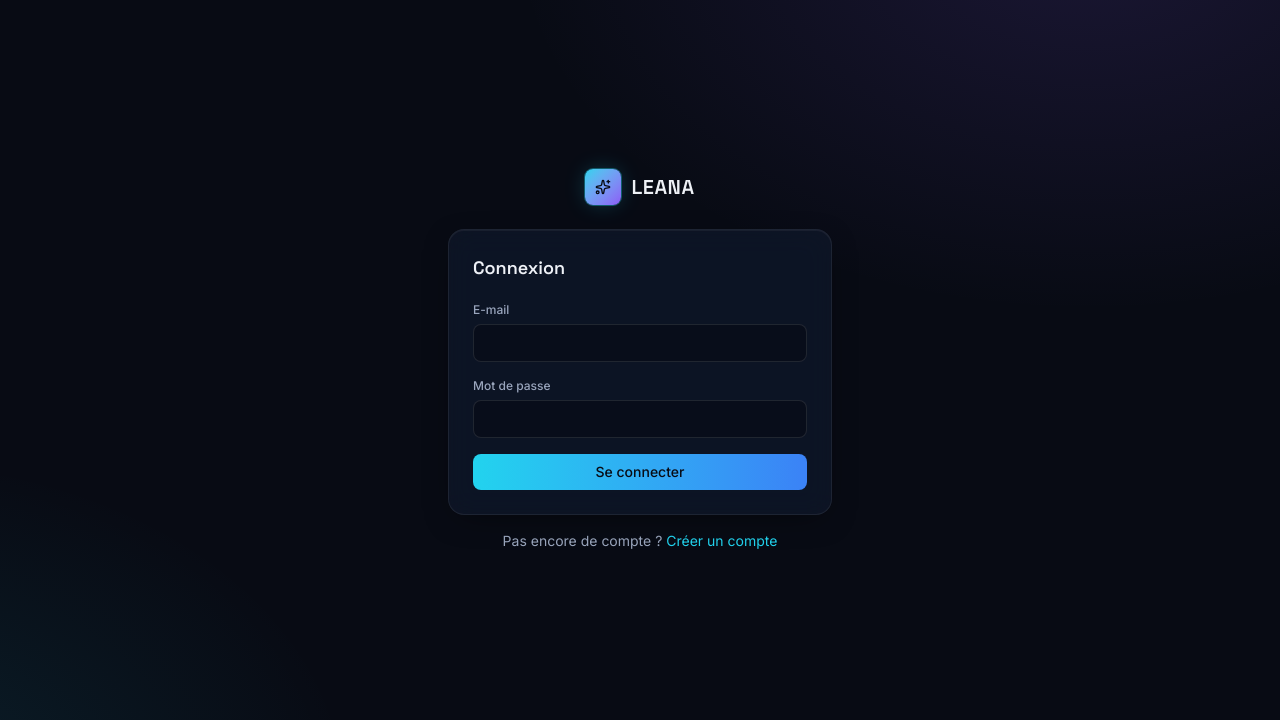
Test: login › opens the requested page after signing in
Step 1. Type "alice@example.test" into the field labelled "E-mail" → x=640, y=343, box [473, 324, 807, 362]
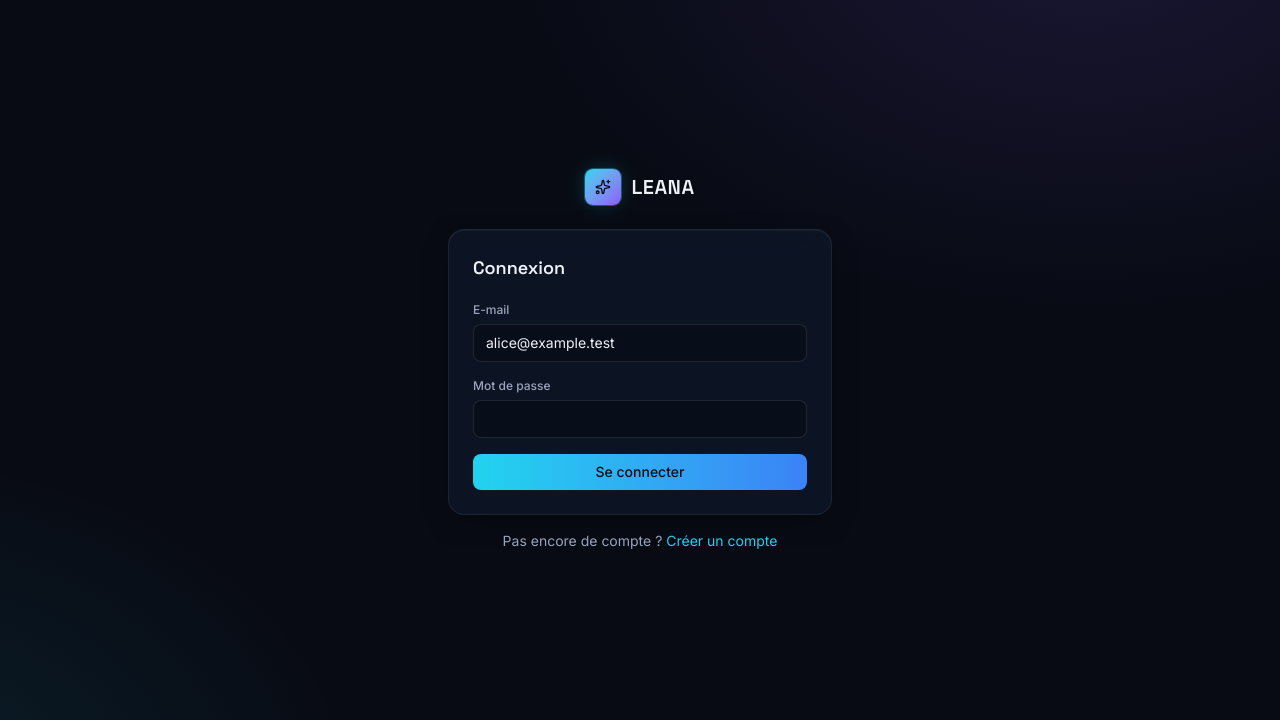
Step 2. Type "correct-password" into the password field labelled "Mot de passe" → x=640, y=419, box [473, 400, 807, 438]
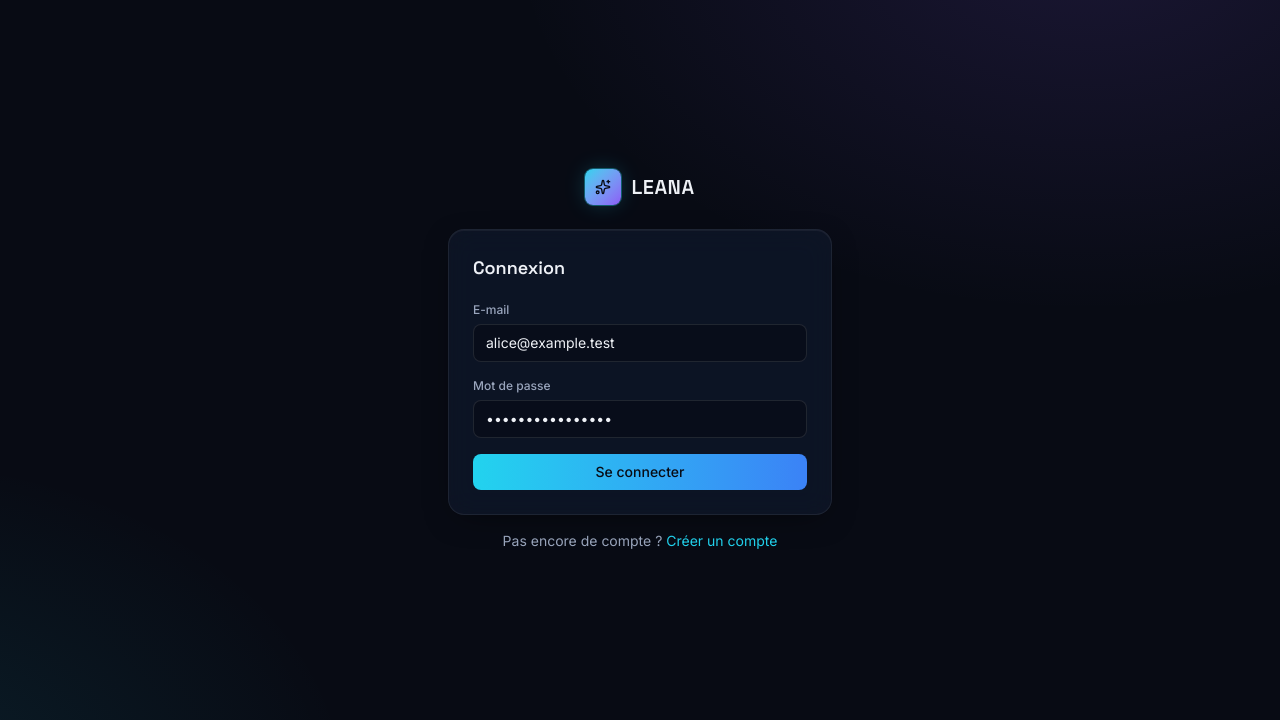
Step 3. Click the button "Se connecter" → x=640, y=472, box [473, 454, 807, 490]
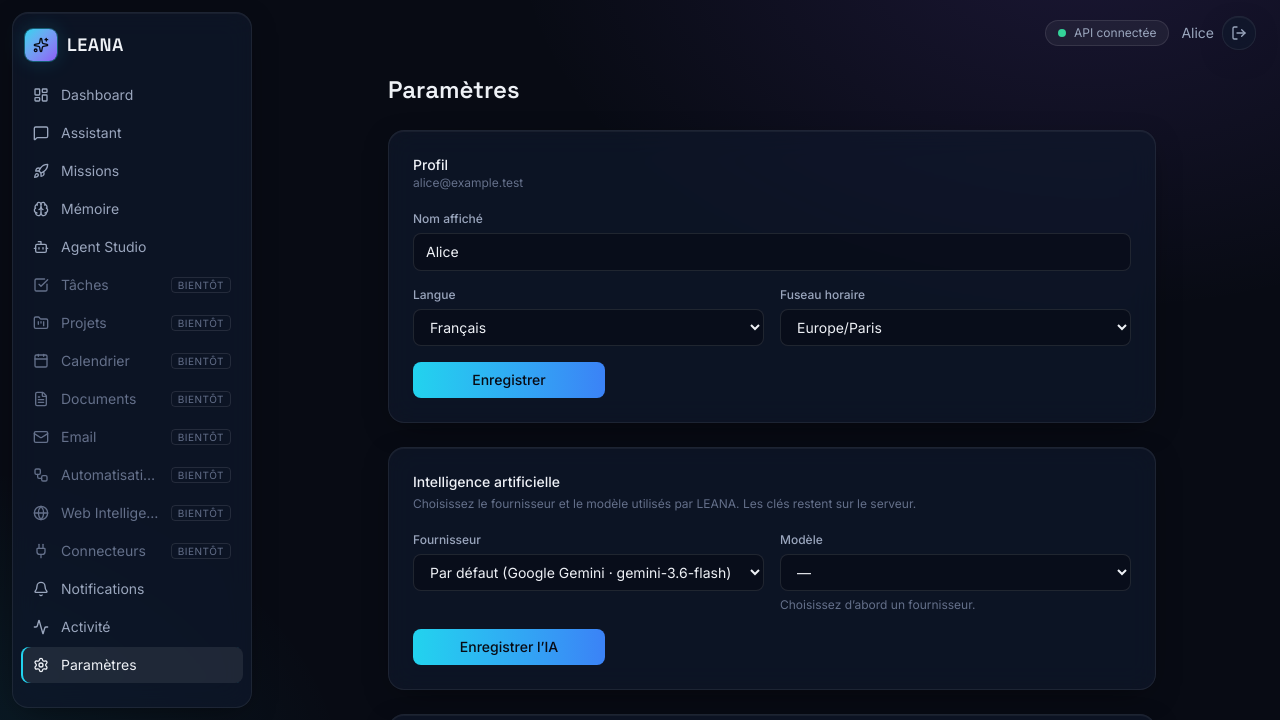
Check: the heading "Paramètres" is shown, box [388, 74, 520, 105]
